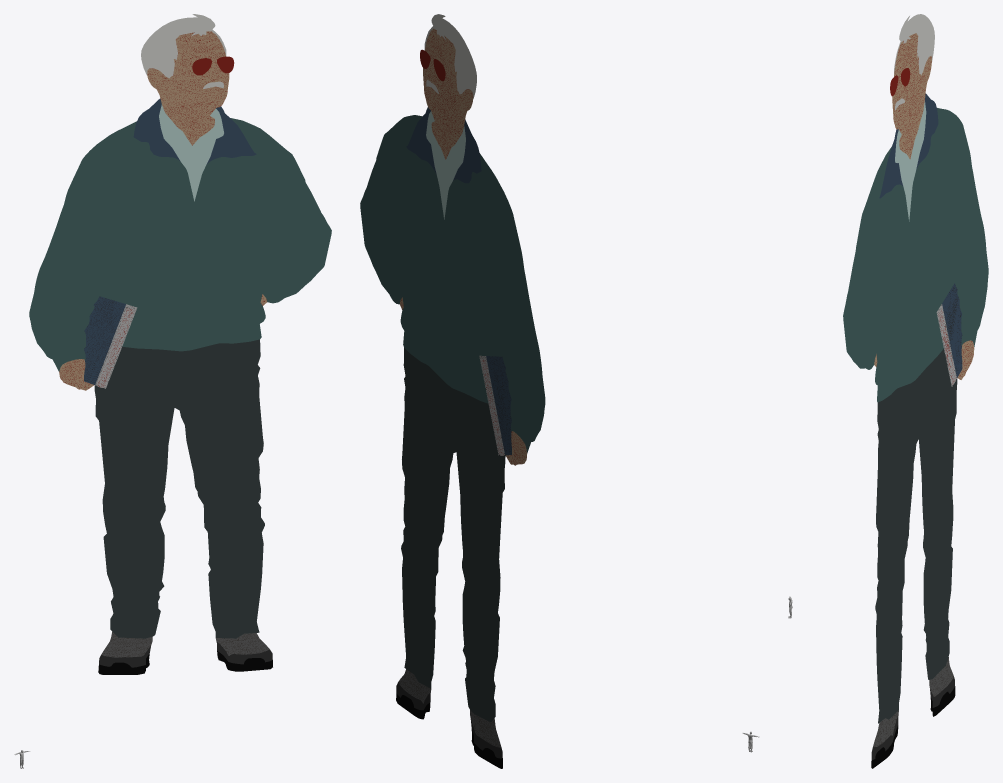
The model's file is marine.dae.
3 renders of one model, left to right at view 1: azimuth 30°, elevation 25°; view 2: azimuth 150°, elevation 25°; view 3: azimuth 270°, elevation 25°, orthographic. The views are drawn at different scales.
Parts seen in each view (by area): view 1: Steve (×13); view 2: Steve (×8); view 3: Steve (×12).
Boxes of the visible parts, bbox=[...] form: Steve (×13): bbox=[29, 14, 331, 671]; Steve (×8): bbox=[360, 14, 545, 722]; Steve (×12): bbox=[843, 14, 988, 746].
Bounding box in the file's own units: 36.22 × 16.75 × 66.71.
